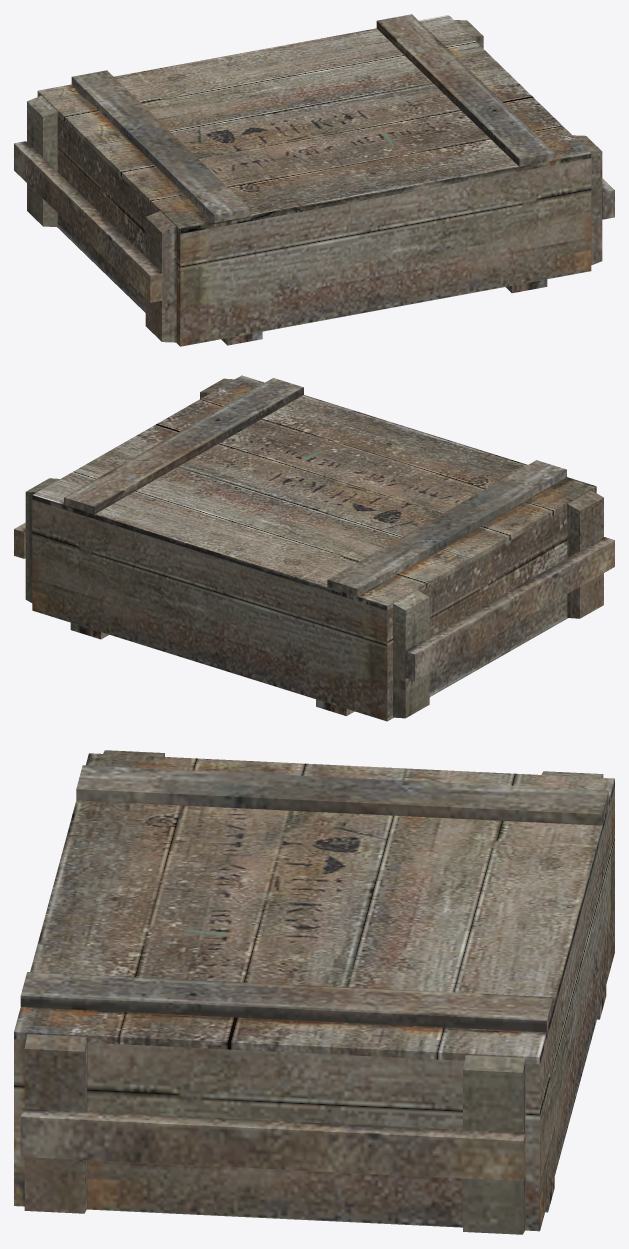
The model's file is NadeBOx.fbx.
The picture shows the model from 3 angles, top to bottom: view 1: azimuth 30°, elevation 25°; view 2: azimuth 150°, elevation 25°; view 3: azimuth 270°, elevation 25°; orthographic projection. The views are drawn at different scales.
Parts seen in each view (by area): view 1: mesh_0.1421; view 2: mesh_0.1421; view 3: mesh_0.1421.
Part boxes in pixels (box(x1,y1,x2,y2)): mesh_0.1421: box(14, 14, 614, 346); mesh_0.1421: box(14, 375, 614, 721); mesh_0.1421: box(14, 750, 614, 1234).
Size of the model in its own units: 0.6416 by 0.1733 by 0.4804.
